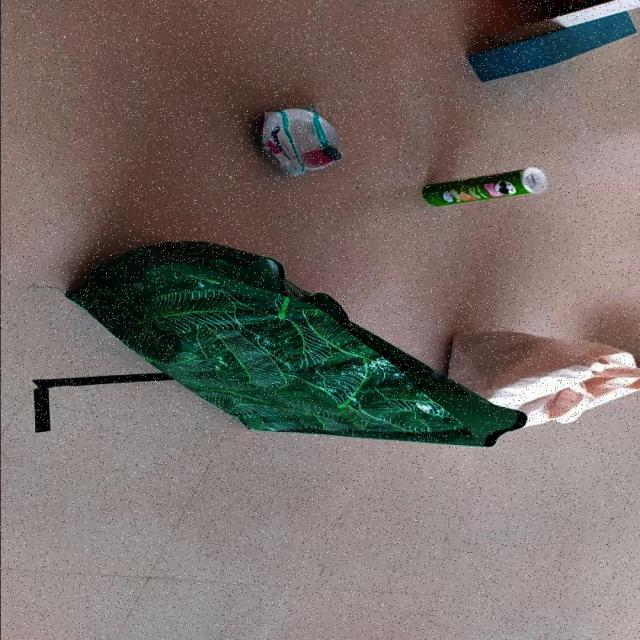Bag: (64, 238, 484, 448), (441, 327, 637, 430)
Plate: (260, 108, 346, 176)
Pringles: (421, 169, 548, 208)
